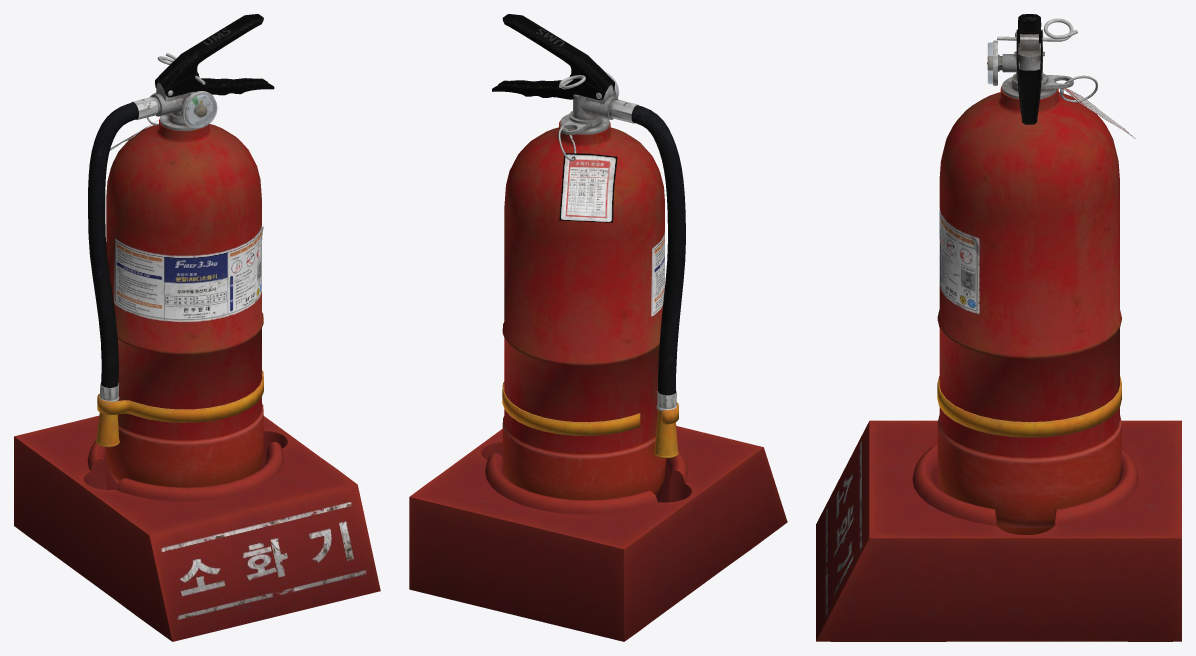
3 views of the same model, side by side, from view 1: azimuth 30°, elevation 25°; view 2: azimuth 150°, elevation 25°; view 3: azimuth 270°, elevation 25° (orthographic). The views are drawn at different scales.
Parts seen in each view (by area): view 1: korean_fire_extinguisher_01; view 2: korean_fire_extinguisher_01; view 3: korean_fire_extinguisher_01.
Boxes of the visible parts, x1=… form: korean_fire_extinguisher_01: x1=14, y1=14, x2=380, y2=641; korean_fire_extinguisher_01: x1=409, y1=14, x2=787, y2=641; korean_fire_extinguisher_01: x1=816, y1=14, x2=1181, y2=641.
Size of the model in its own units: 0.28 by 0.6593 by 0.3674.
3 materials, 3 textured.
